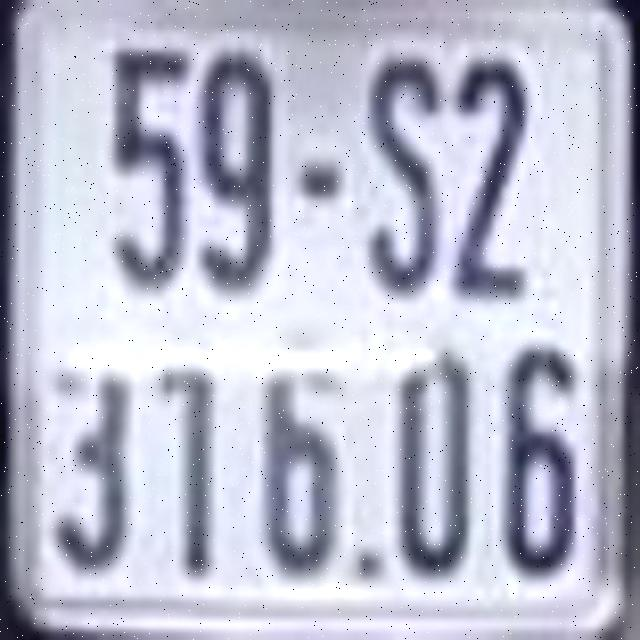0: (396, 346, 473, 576)
1: (160, 362, 217, 575)
2: (454, 54, 531, 301)
3: (53, 364, 131, 571)
5: (109, 40, 190, 290)
6: (504, 343, 579, 575), (263, 360, 343, 574)
9: (197, 44, 275, 293)
S: (366, 51, 442, 295)
